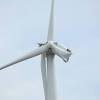faulty: (28, 20, 75, 72)
